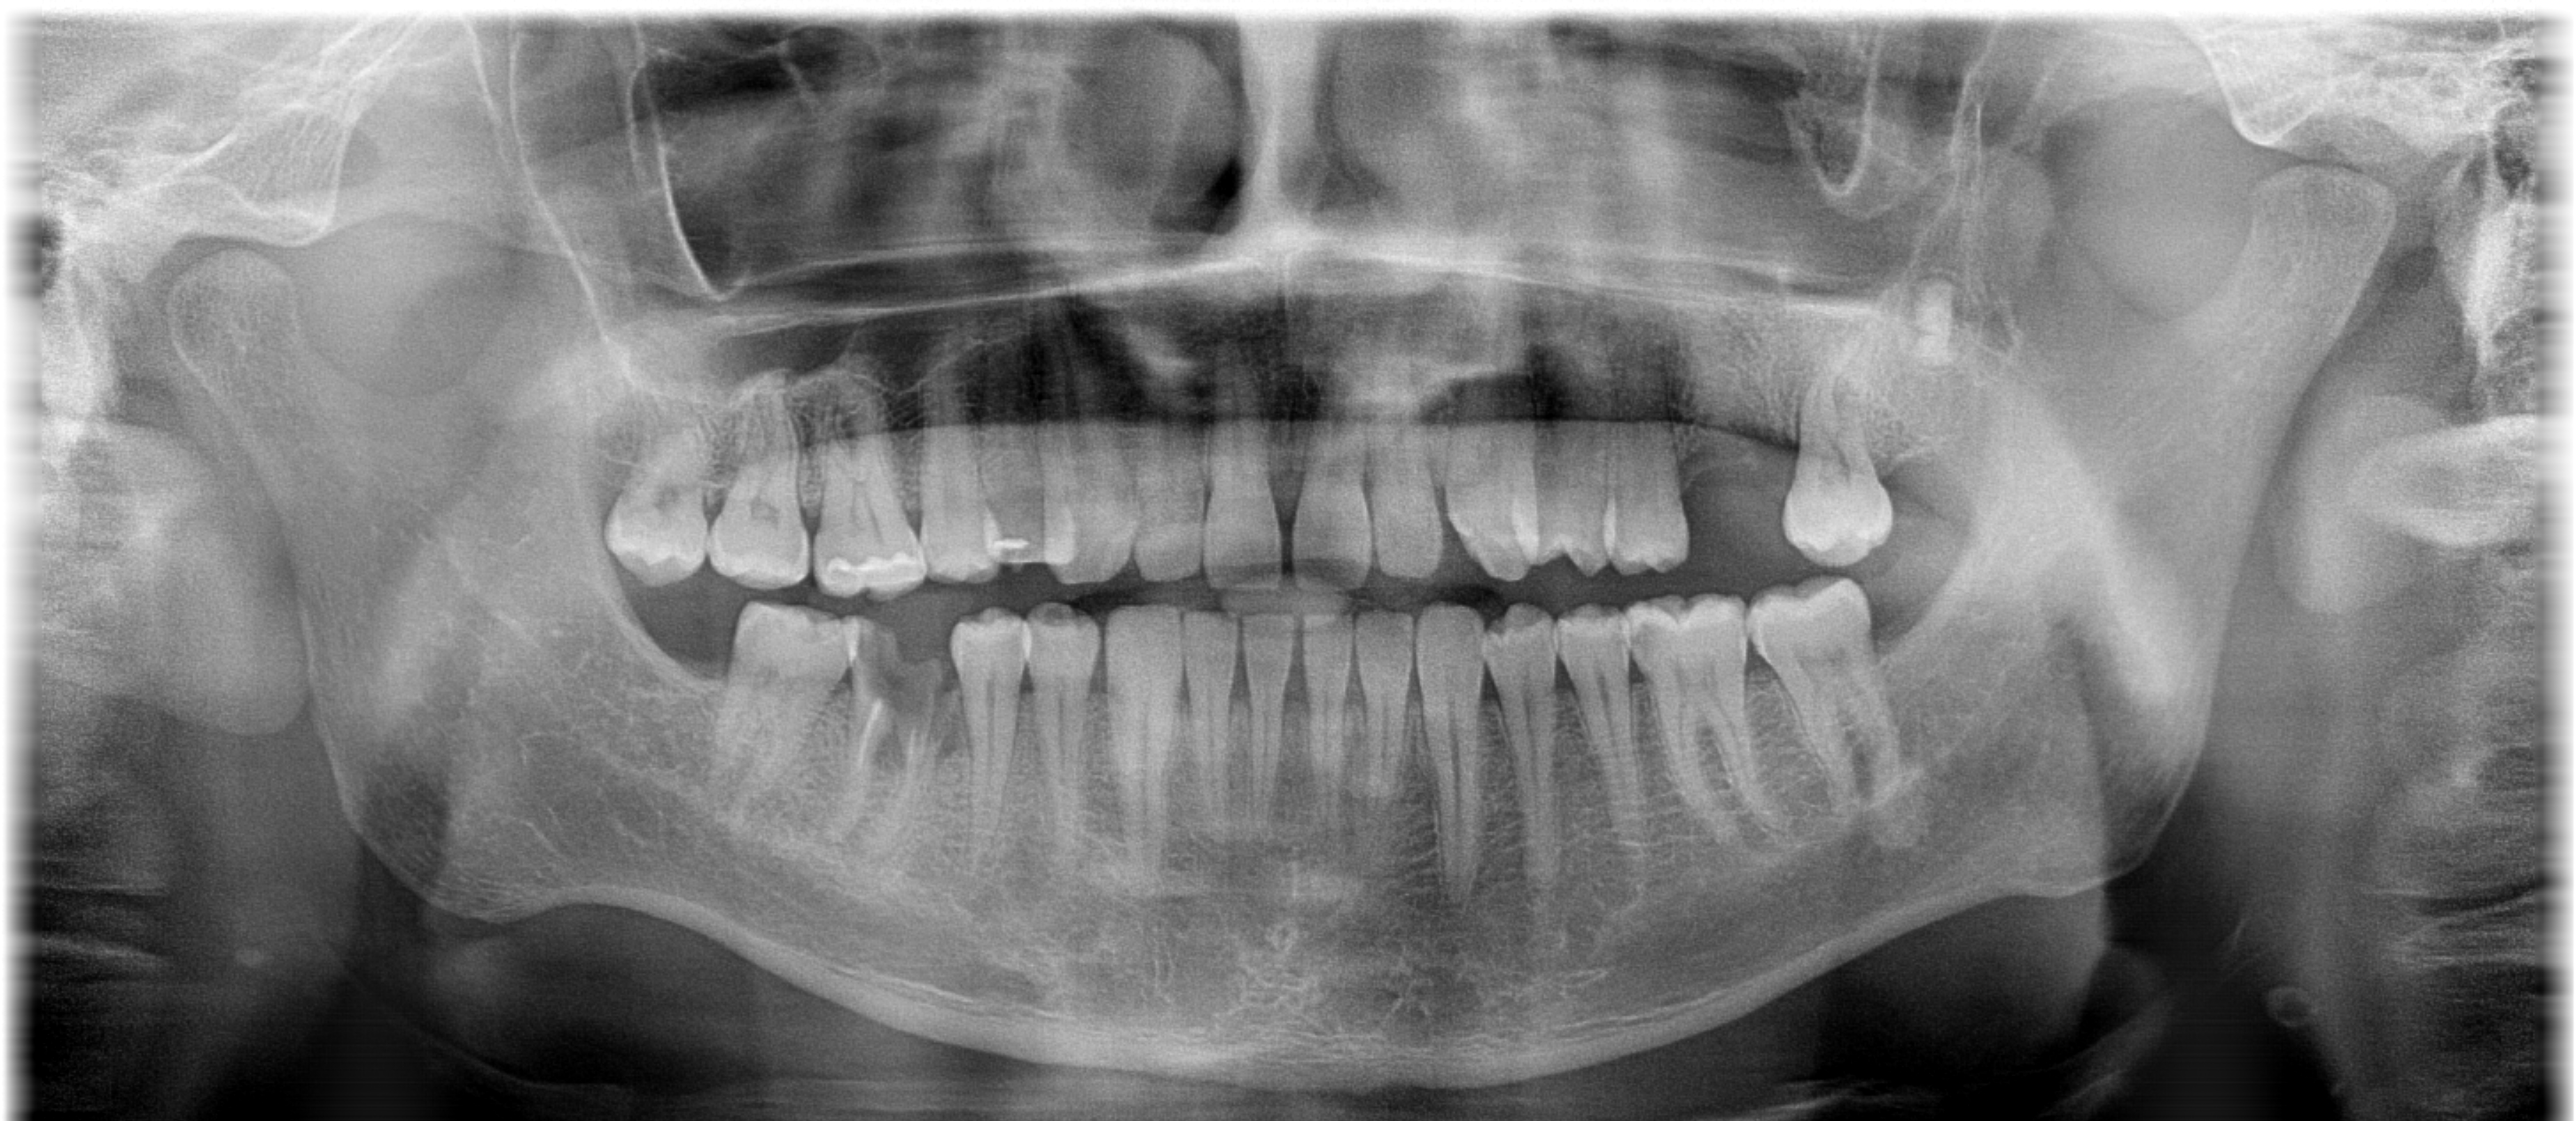apinamiento: (899, 478, 1155, 589)
caries: (833, 607, 956, 745)
cordal: (590, 374, 739, 614), (1768, 343, 1916, 573)
